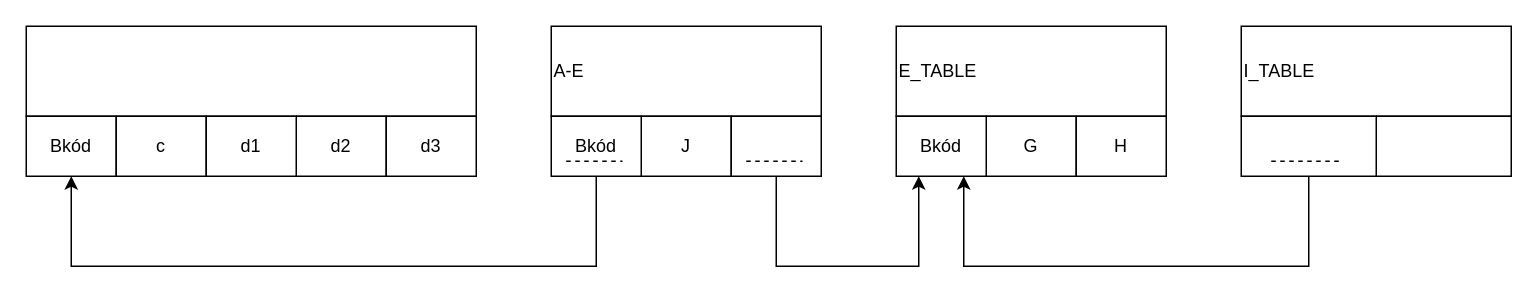
The diagram is 1538 pixels wide and 305 high, and some of its shapes have lost their labels. The box of each missing label's shape, as (x1, y1, x2, y2) in pixels:
A Table: (25, 25, 476, 116)
F-Kód: (730, 115, 821, 176)
Fkód: (1240, 115, 1376, 176)
I érték: (1375, 115, 1511, 176)
